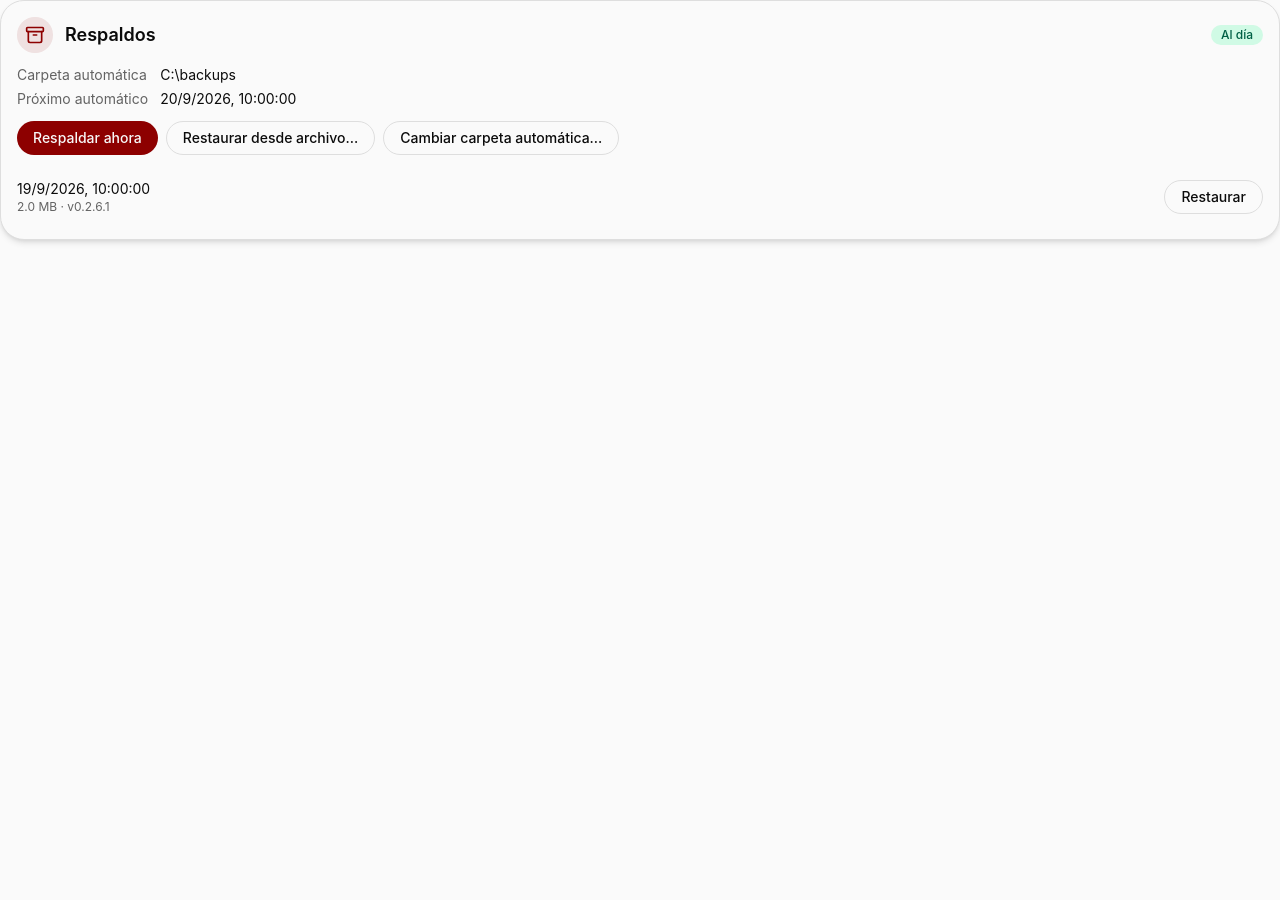
Test case: BackupCard › restores from a row of the list
This screenshot has width=1280, height=900.
Click the button "Restaurar".
click(1214, 197)  # box top-left (1164, 180), bottom-right (1263, 214)
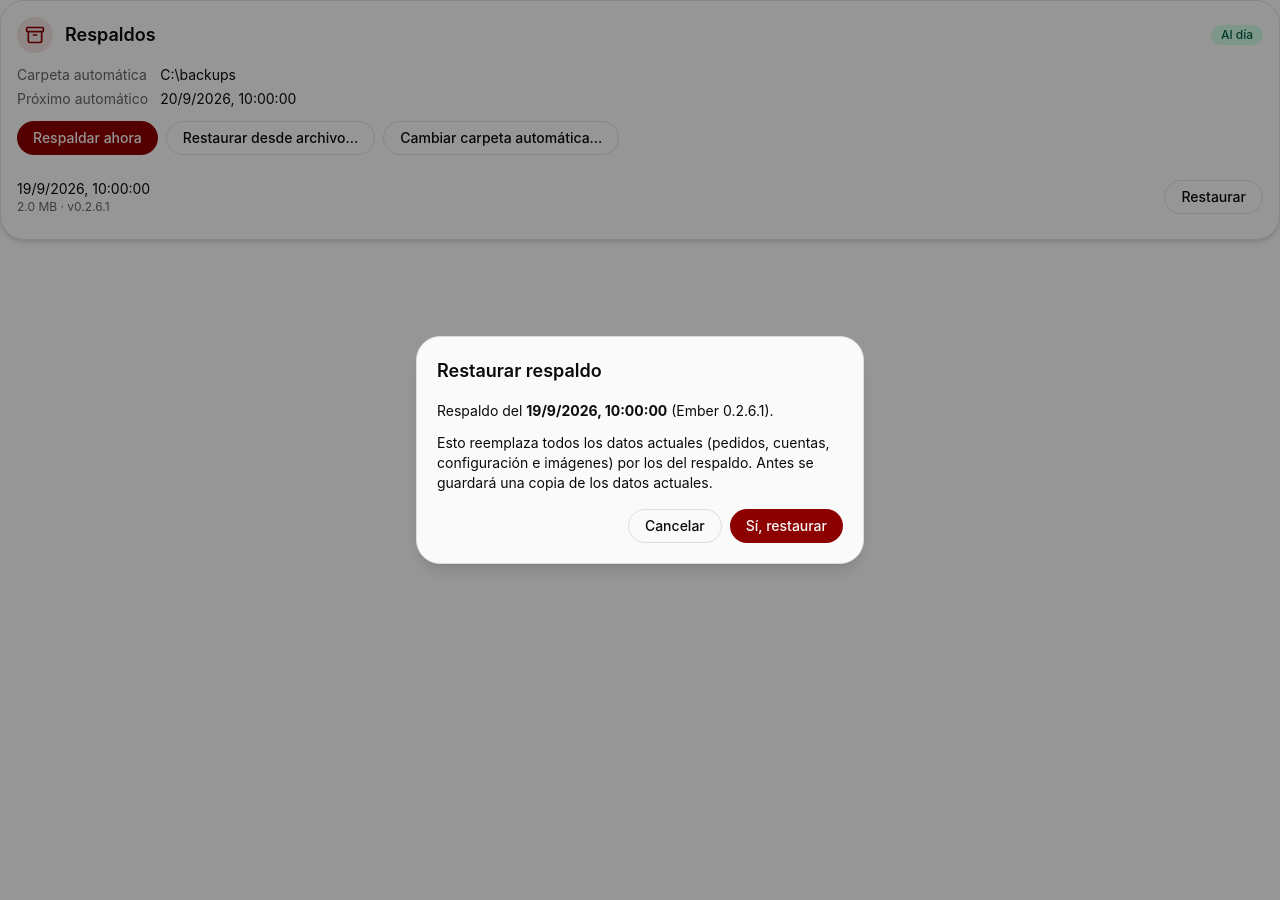
Check: the button "Sí, restaurar" is shown, box top-left (730, 509), bottom-right (843, 543)
